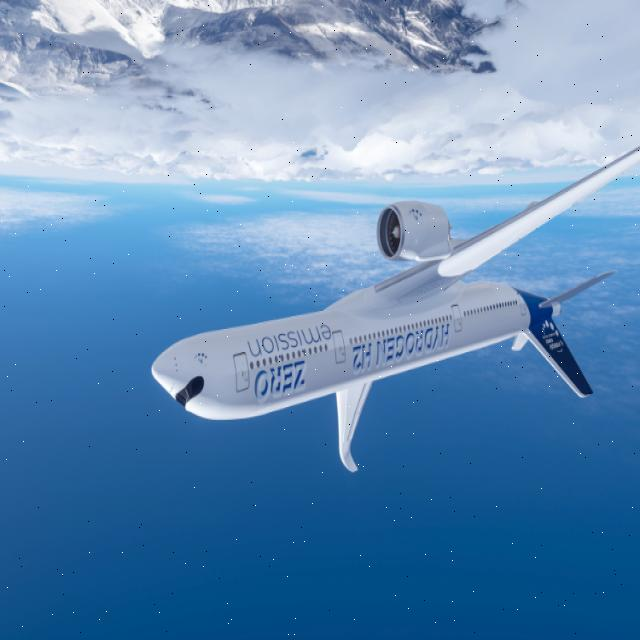aircraft: (140, 97, 634, 500)
